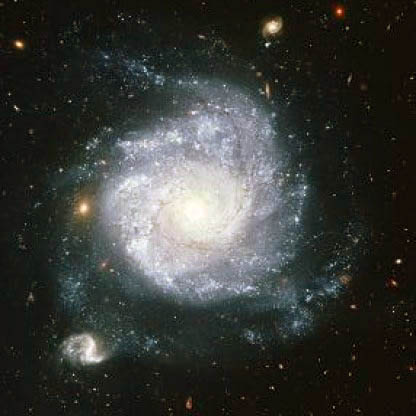NGC 1309: (37, 15, 362, 376)
